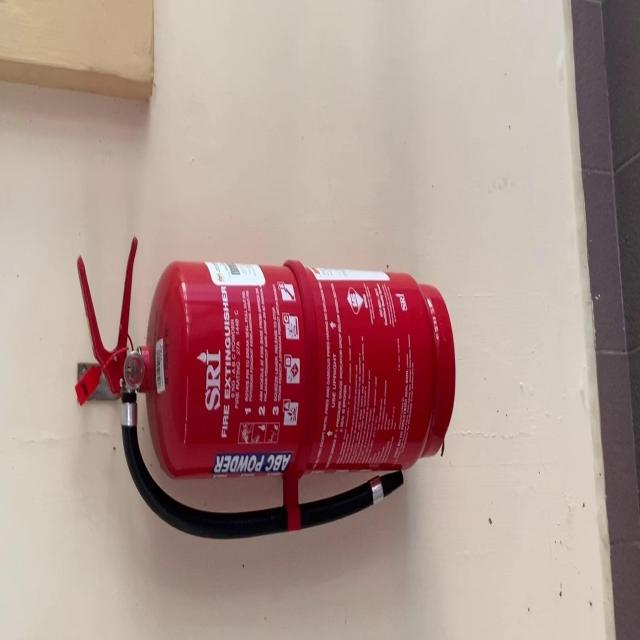fire_extinguisher: (68, 231, 460, 544)
